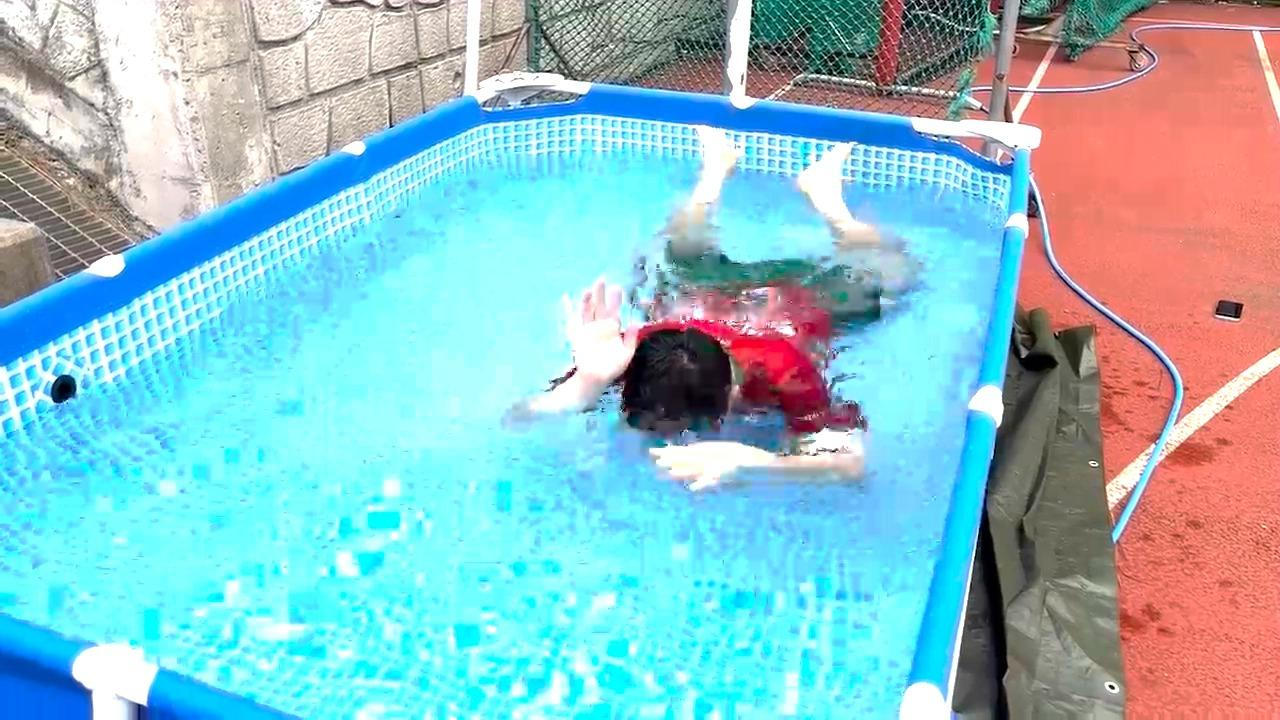Drowning: (518, 89, 970, 497)
